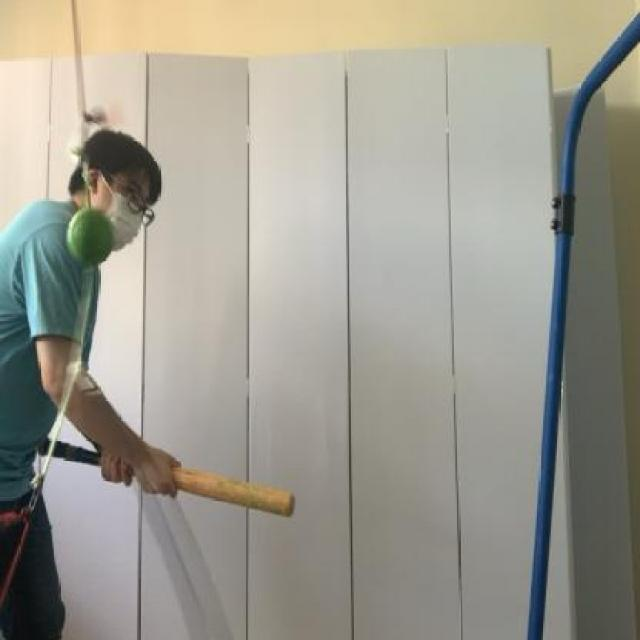baseball: (57, 205, 132, 273)
